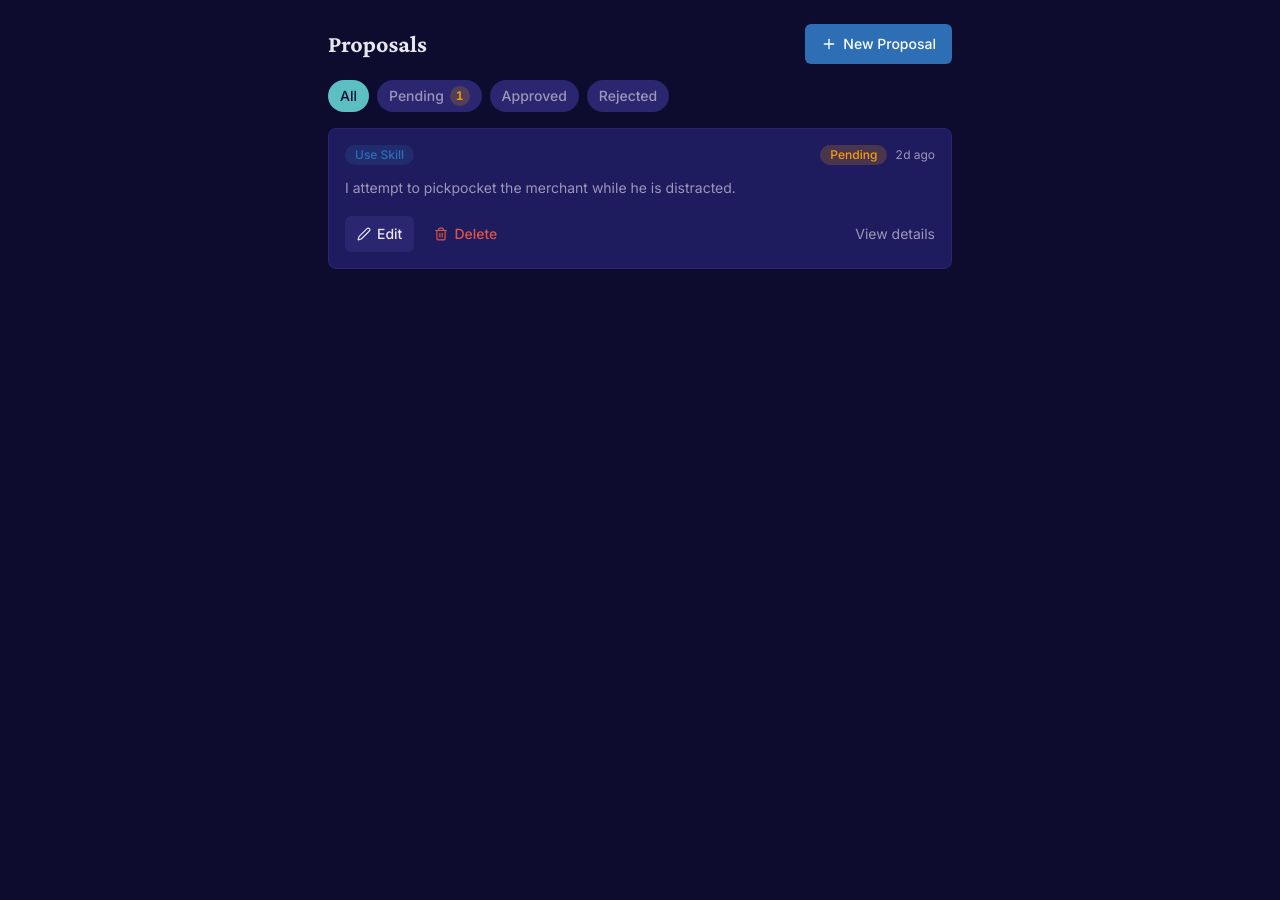
Test: proposals list — delete › clicking Delete opens confirm modal
Step 1. Click the button with aria-label "Delete proposal" → click(466, 234), box [422,216,509,252]
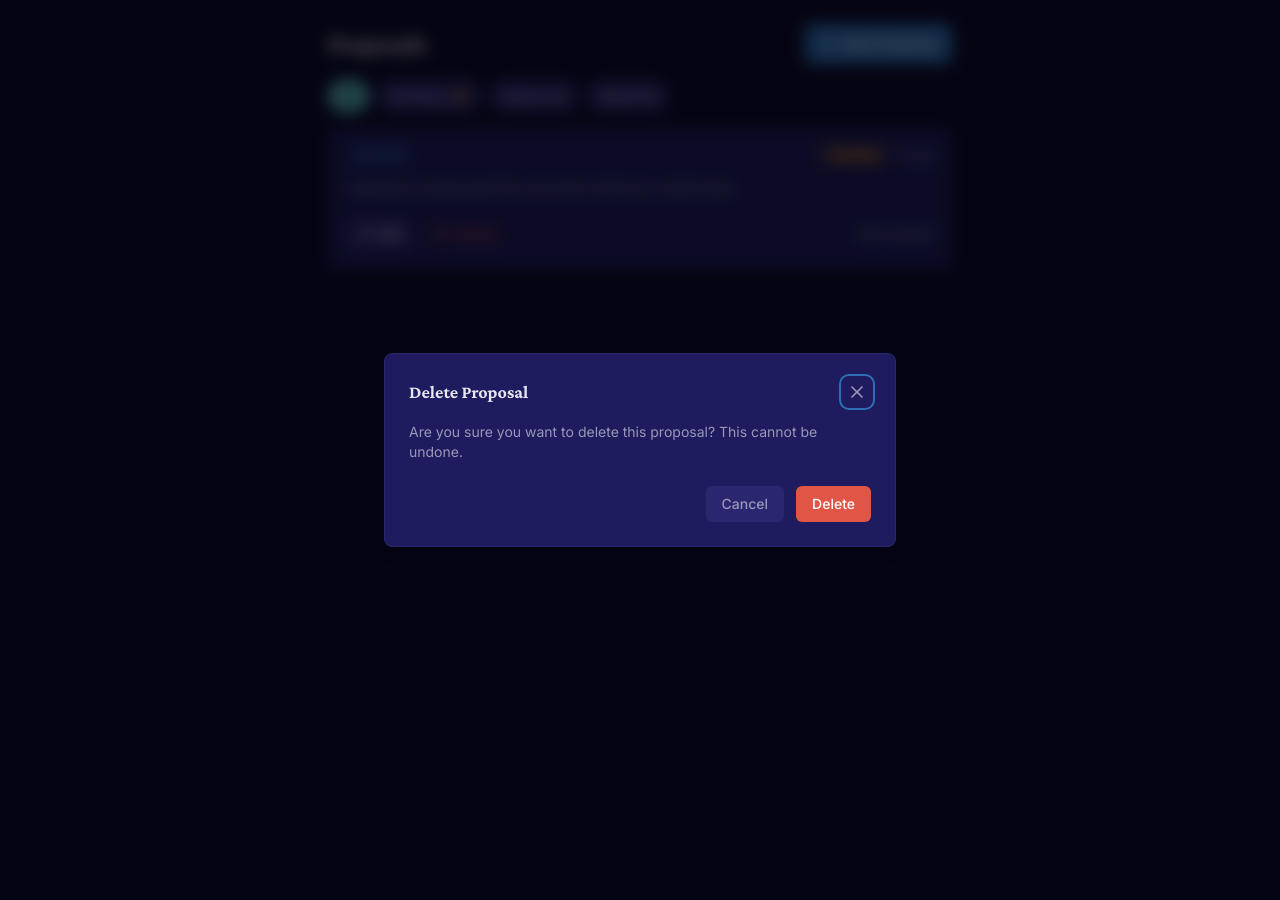
Expected: the dialog is shown, [384,353,896,547]
Expected: the heading "Delete Proposal" is shown, [409,378,528,406]
